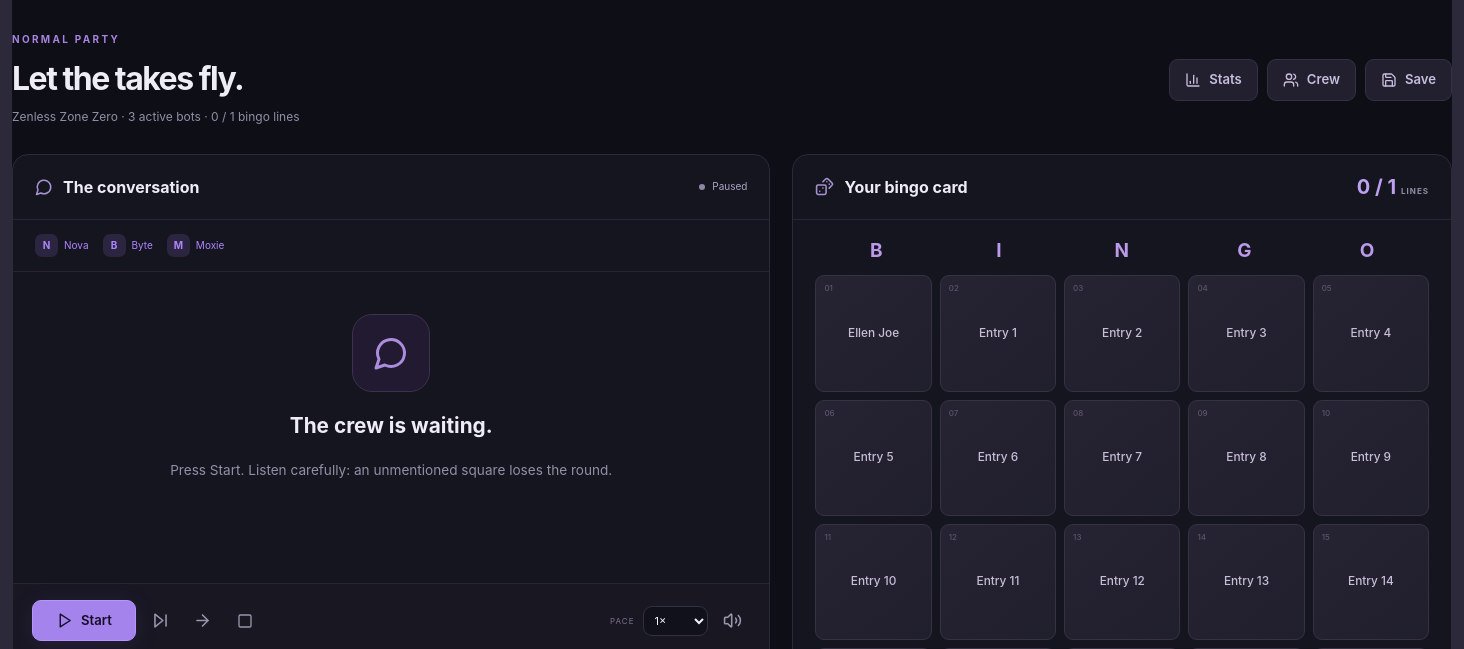
Test: authoritative round UI › uses the server mark result for an immediate loss
(page scrolled)
expect the button "Start" is shown: met, box top-left (32, 600), bottom-right (136, 642)
Click the button "01 Ellen Joe" at (874, 333), box top-left (816, 275), bottom-right (932, 392)
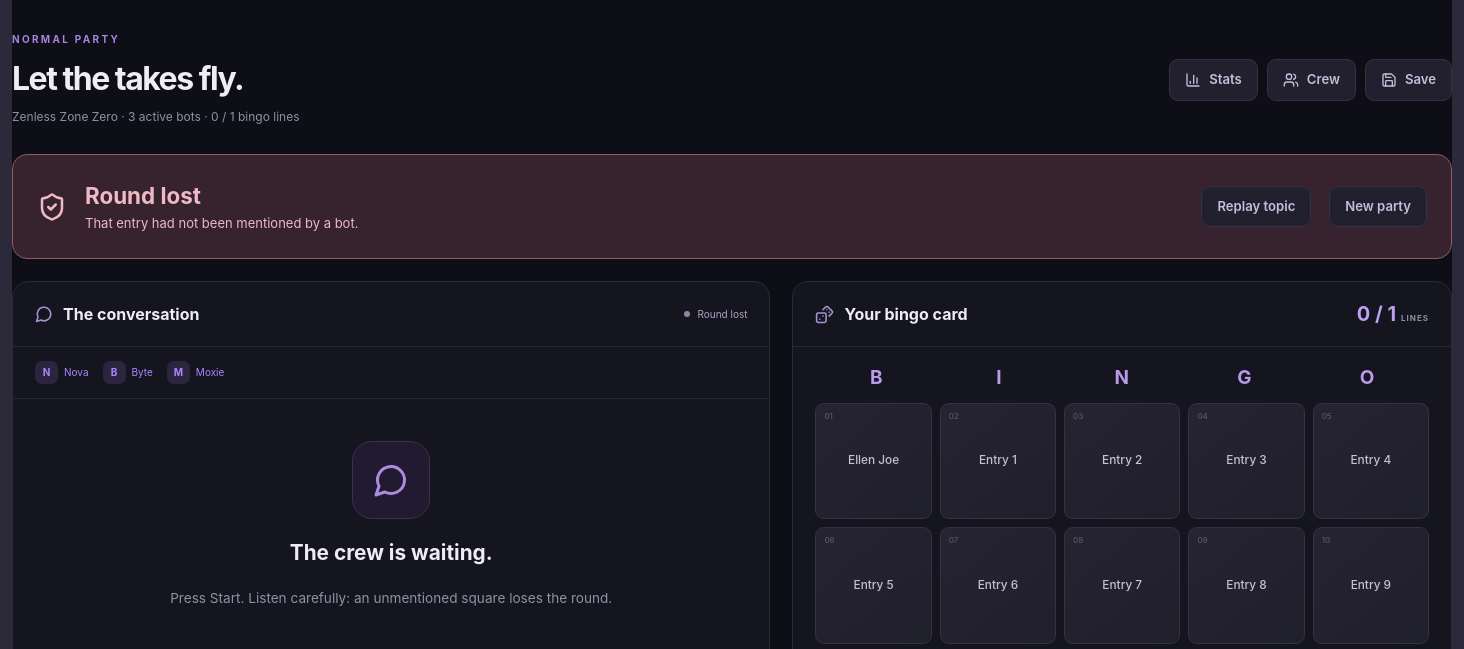
expect the heading "Round lost" is shown: met, box top-left (85, 182), bottom-right (201, 209)
